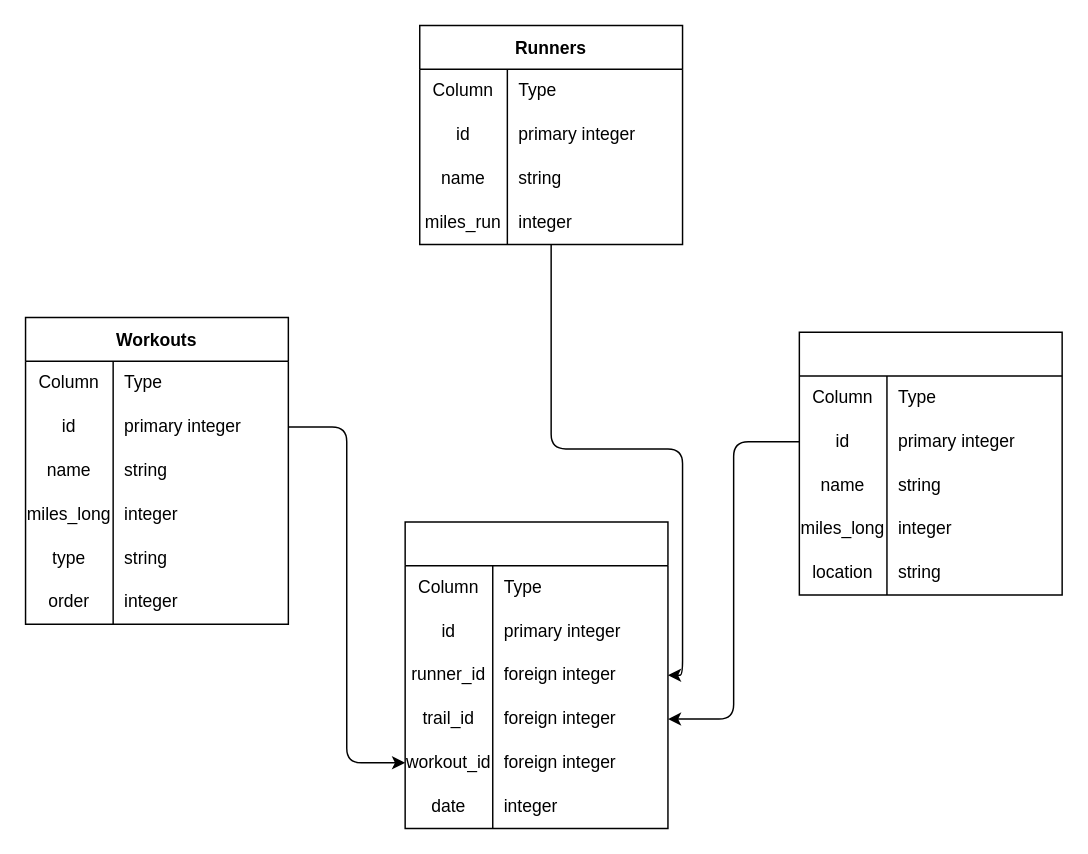
The diagram is 1088 pixels wide and 854 high, and some of its shapes have lost their labels. Each missing label, with the box of its shape:
Runs: (404, 520, 668, 829)
Trails: (798, 331, 1062, 595)
